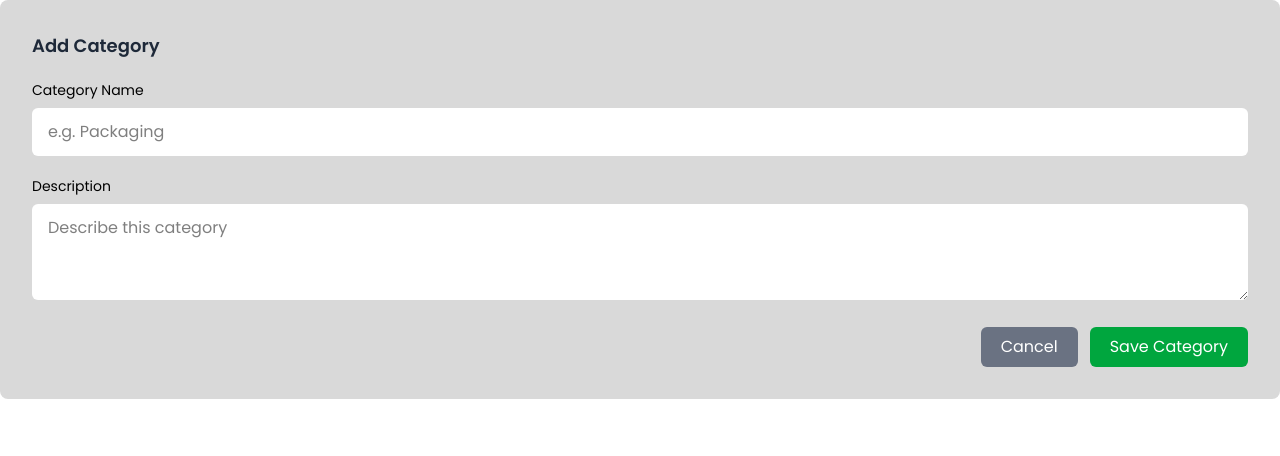
Test case: CategoryForm › requires a category name
The image size is (1280, 456).
Click the button "Save Category" at (1169, 347), box [1090, 327, 1248, 367]
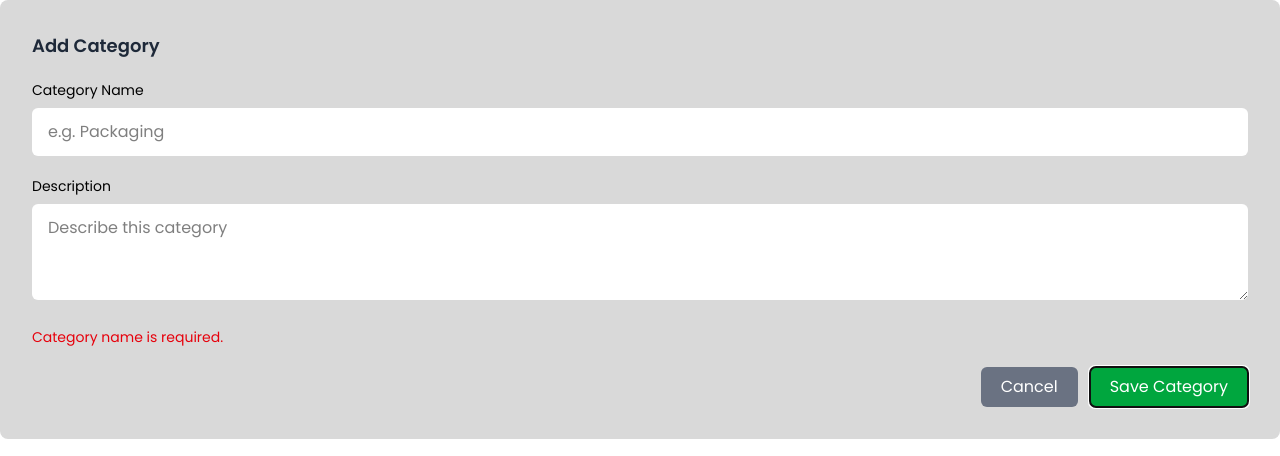
Check: the text "Category name is required." is shown, box [32, 327, 223, 347]
